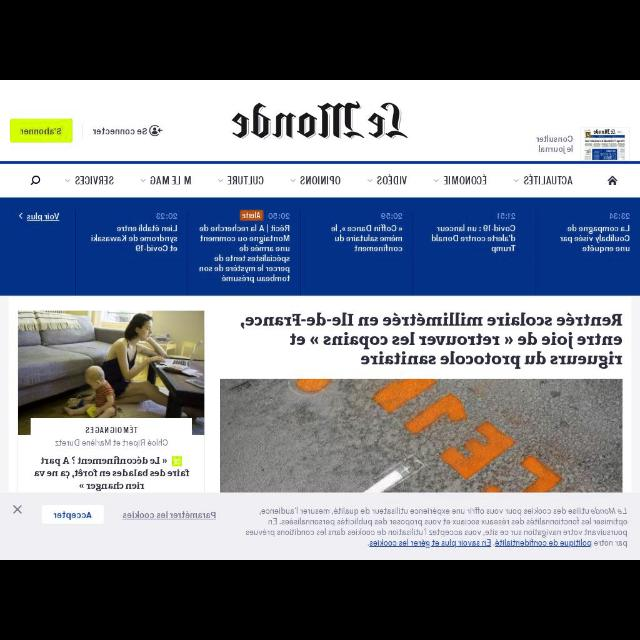icon: (150, 125, 162, 137), (11, 505, 23, 515), (30, 176, 40, 187), (608, 176, 618, 186), (19, 210, 25, 220), (290, 178, 296, 186), (432, 178, 440, 182), (66, 178, 70, 185), (514, 178, 520, 182), (218, 178, 224, 182), (140, 178, 146, 182), (368, 178, 372, 182)
image: (220, 378, 622, 492), (18, 312, 204, 434), (230, 102, 406, 140), (579, 127, 629, 161), (172, 457, 180, 467)
link: (368, 537, 492, 547), (494, 538, 594, 548)
multitab: (1, 164, 639, 198)
spinner: (511, 173, 574, 189), (431, 174, 487, 190), (367, 173, 408, 189), (214, 176, 264, 188), (137, 176, 190, 187), (64, 176, 114, 187), (288, 176, 340, 186)
text: (238, 312, 622, 362), (246, 506, 628, 552), (196, 224, 290, 284), (34, 468, 190, 489), (430, 223, 516, 254), (92, 224, 178, 252), (330, 224, 404, 253), (558, 224, 630, 252), (53, 438, 169, 448), (40, 456, 166, 464), (122, 510, 218, 520), (536, 136, 572, 154), (82, 424, 140, 434), (92, 127, 148, 137), (524, 176, 572, 186), (20, 128, 62, 138), (444, 174, 486, 184), (150, 175, 192, 185), (300, 176, 340, 186), (76, 177, 114, 187), (54, 511, 92, 521), (228, 175, 264, 185), (28, 211, 58, 223), (377, 175, 408, 185), (381, 212, 404, 220), (608, 212, 630, 220), (268, 212, 290, 220), (156, 211, 178, 219), (496, 212, 516, 220), (242, 212, 260, 220)
textbutton: (9, 120, 72, 142), (42, 505, 104, 525)
